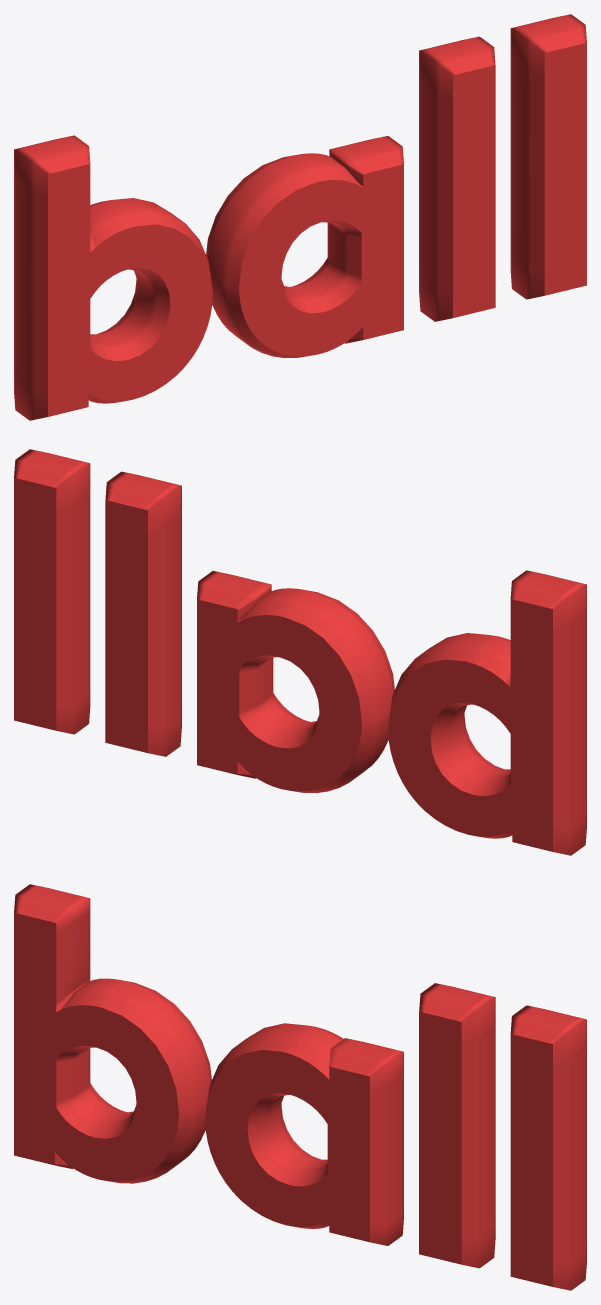
File: ball 1.fbx
The picture shows the model from 3 angles, top to bottom: view 1: azimuth 30°, elevation 25°; view 2: azimuth 150°, elevation 25°; view 3: azimuth 330°, elevation 25°; orthographic projection.
Visible parts, largest first — view 1: bevelPolygon1, bevelPolygon2, bevelPolygon3, bevelPolygon4; view 2: bevelPolygon1, bevelPolygon2, bevelPolygon3, bevelPolygon4; view 3: bevelPolygon1, bevelPolygon2, bevelPolygon3, bevelPolygon4.
Boxes of the visible parts, box(x1,y1,x2,y2) form: bevelPolygon1: box(14, 135, 212, 420); bevelPolygon2: box(206, 136, 403, 357); bevelPolygon3: box(419, 36, 495, 321); bevelPolygon4: box(510, 14, 586, 299); bevelPolygon1: box(388, 570, 586, 855); bevelPolygon2: box(197, 571, 394, 792); bevelPolygon3: box(105, 471, 181, 756); bevelPolygon4: box(14, 449, 90, 734); bevelPolygon1: box(14, 884, 211, 1183); bevelPolygon2: box(205, 1023, 403, 1245); bevelPolygon3: box(419, 983, 495, 1268); bevelPolygon4: box(510, 1005, 586, 1290).
Size of the model in its own units: 6.63 by 3.01 by 0.7.
